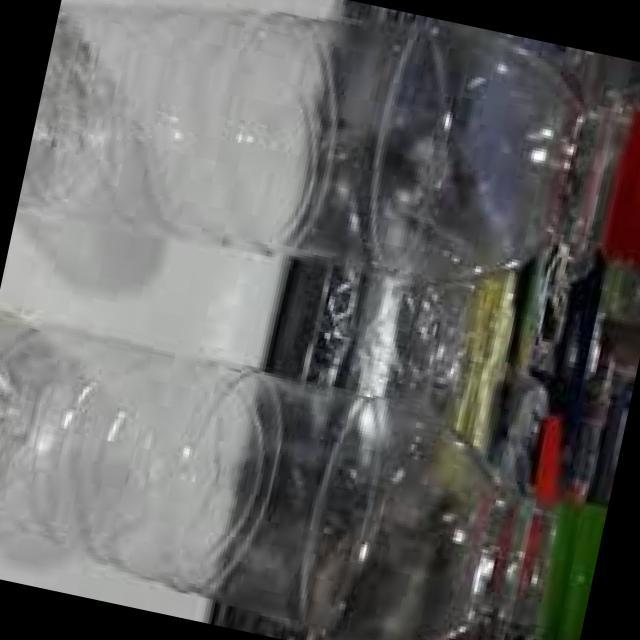good: (0, 292, 618, 640), (21, 0, 640, 332)
